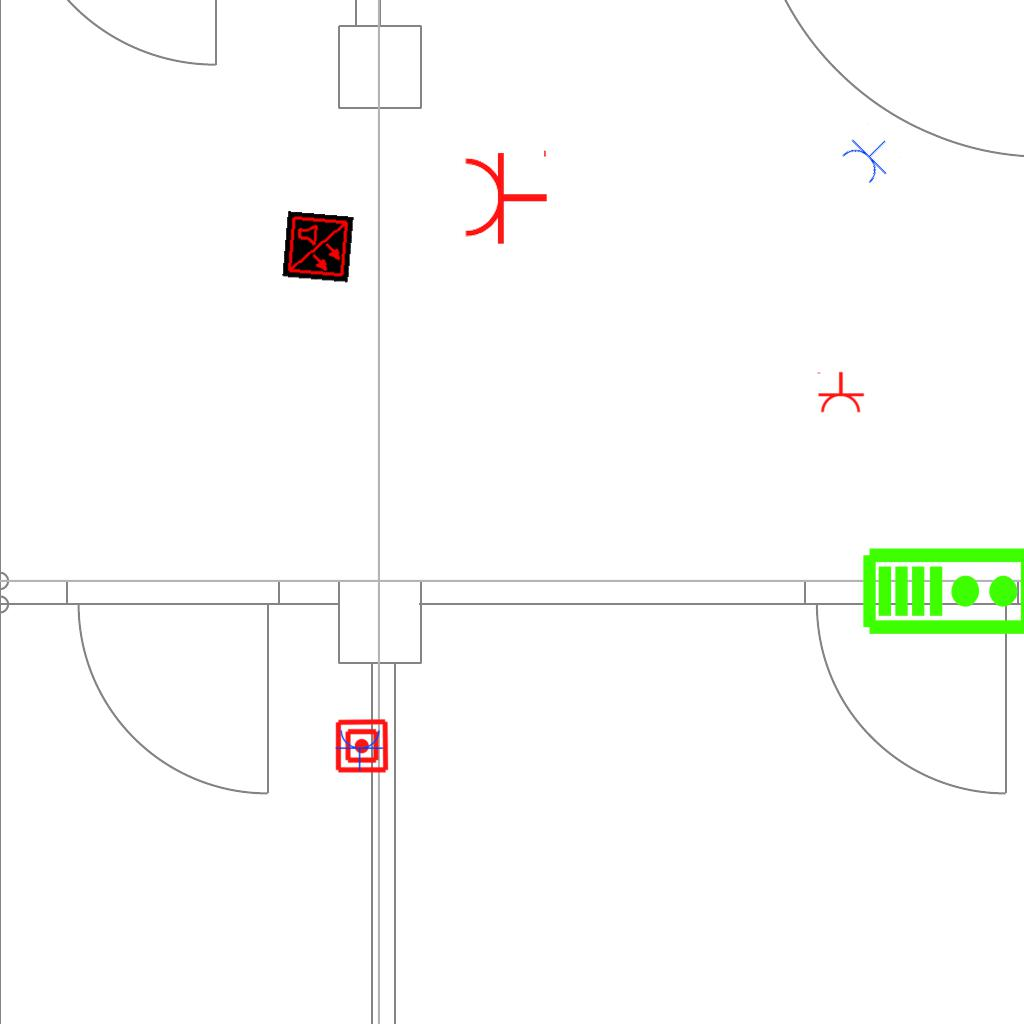Gegensprechanlage_mit_Video: (861, 542, 1024, 637)
NAM-Nichtautomatischer_Melder: (334, 718, 390, 774)
OKW_Multisensormelder_(Kombination_optischer_Rauch-Kahlenmonoxid_Waerme-Melder): (282, 211, 354, 283)
Schukosteckdose_einfach: (462, 146, 549, 246), (837, 122, 903, 189), (815, 371, 865, 414), (335, 728, 385, 771)
